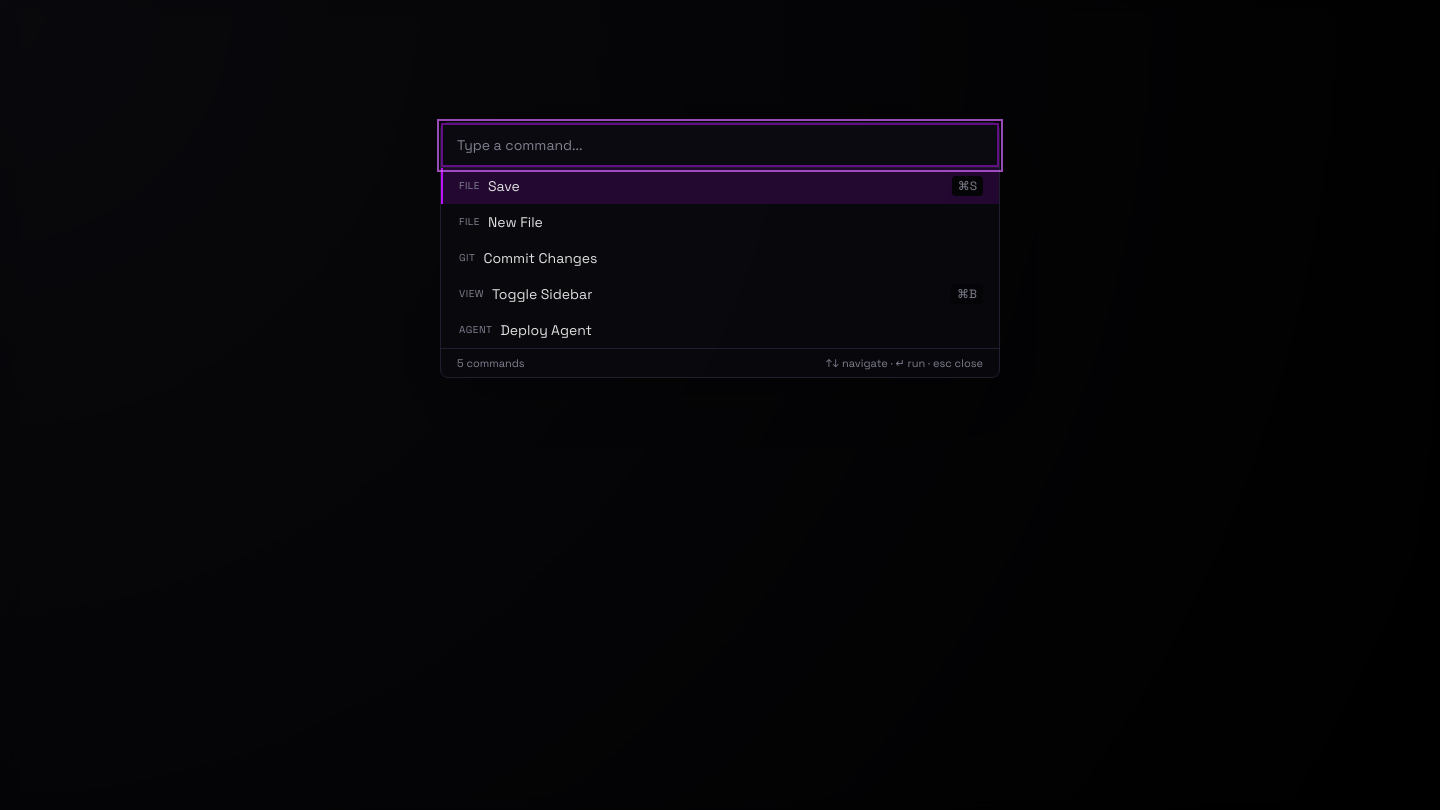
Scenario: CommandPalette › shows "No matching commands" when no results
In the field with test id "command-palette-input": (720, 145) [441,122,999,168], type "zzzzzzz"
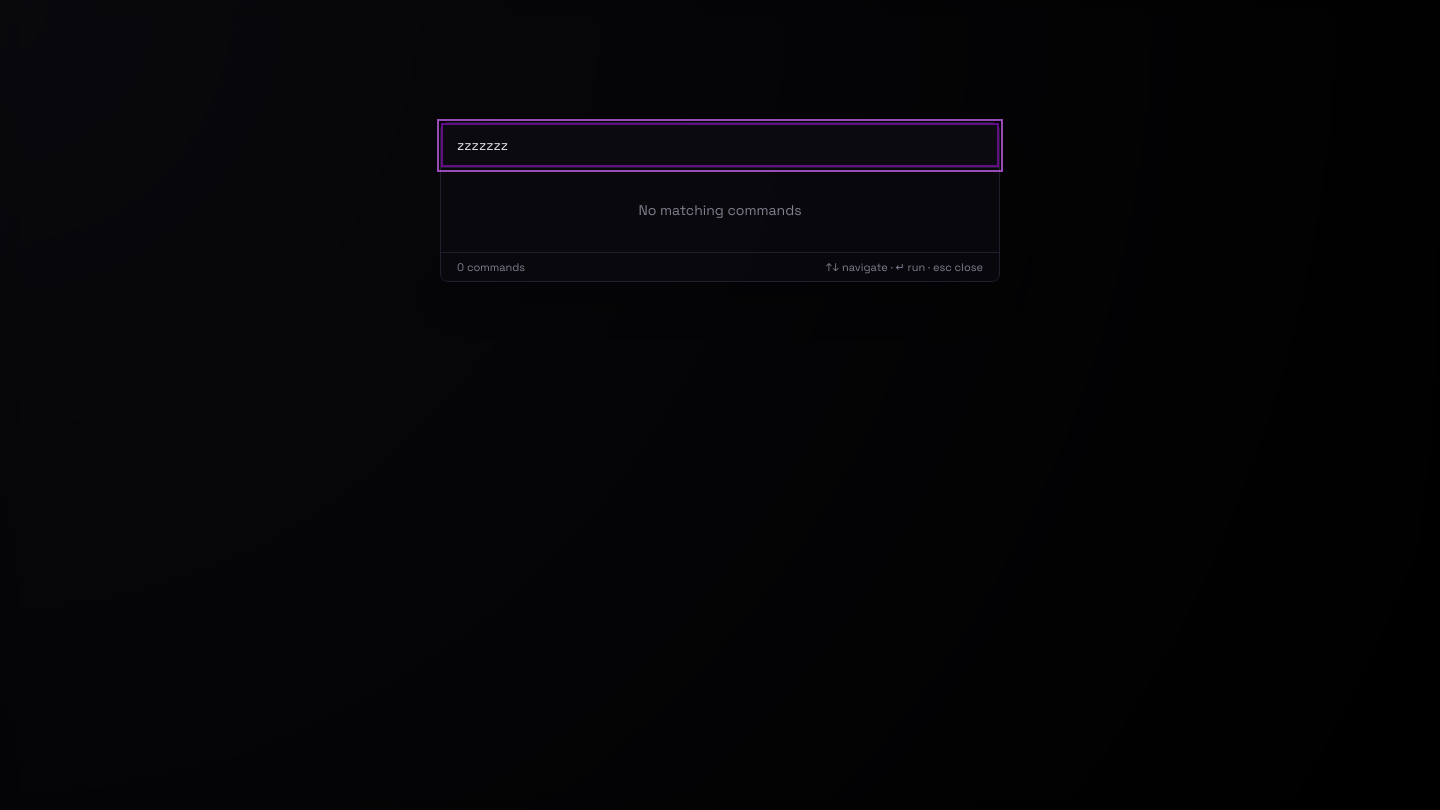
Now the text with test id "command-palette-empty" reads "No matching commands", box [638,200,802,218]
Now no elements with test id "command-palette-item" are shown
